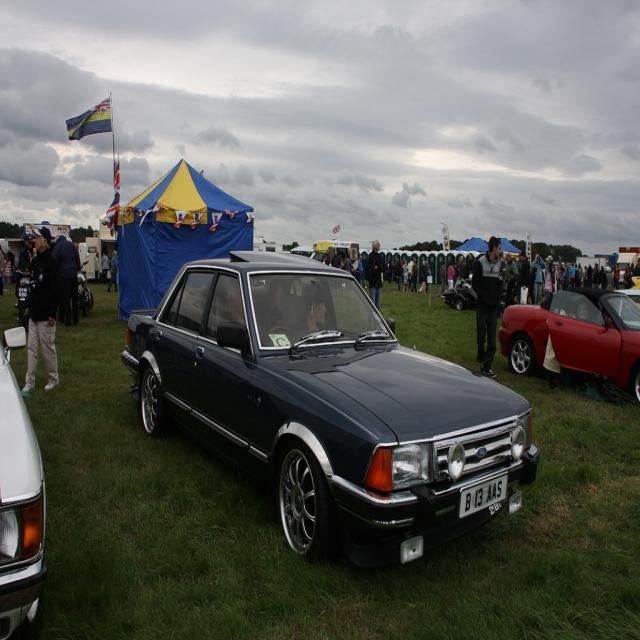car: (120, 246, 539, 568)
